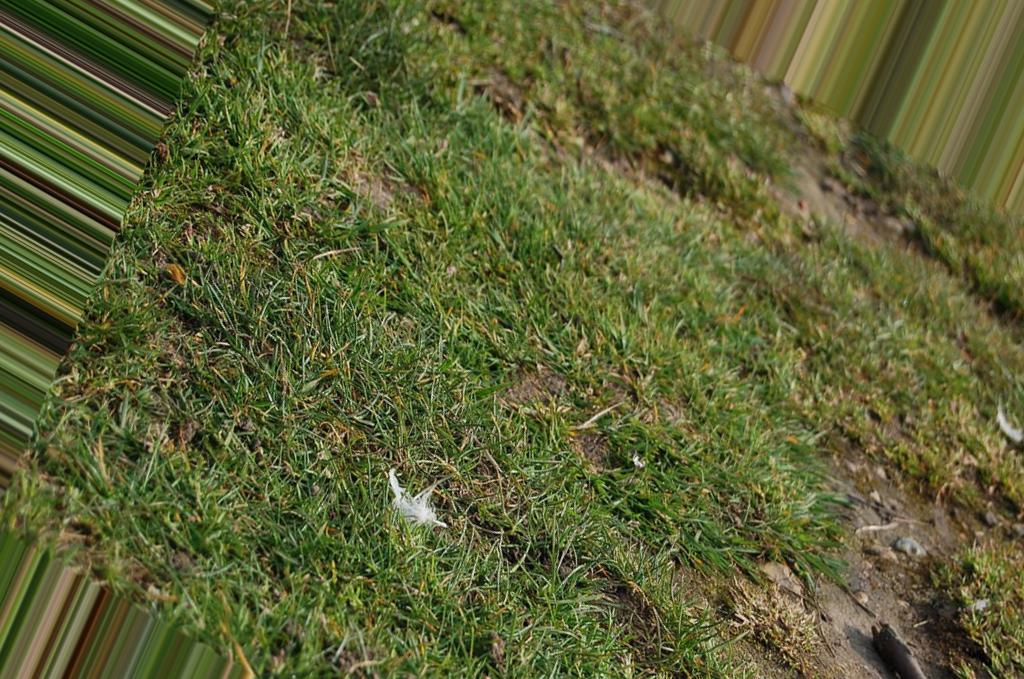patch: (827, 484, 937, 661), (806, 168, 887, 241)
